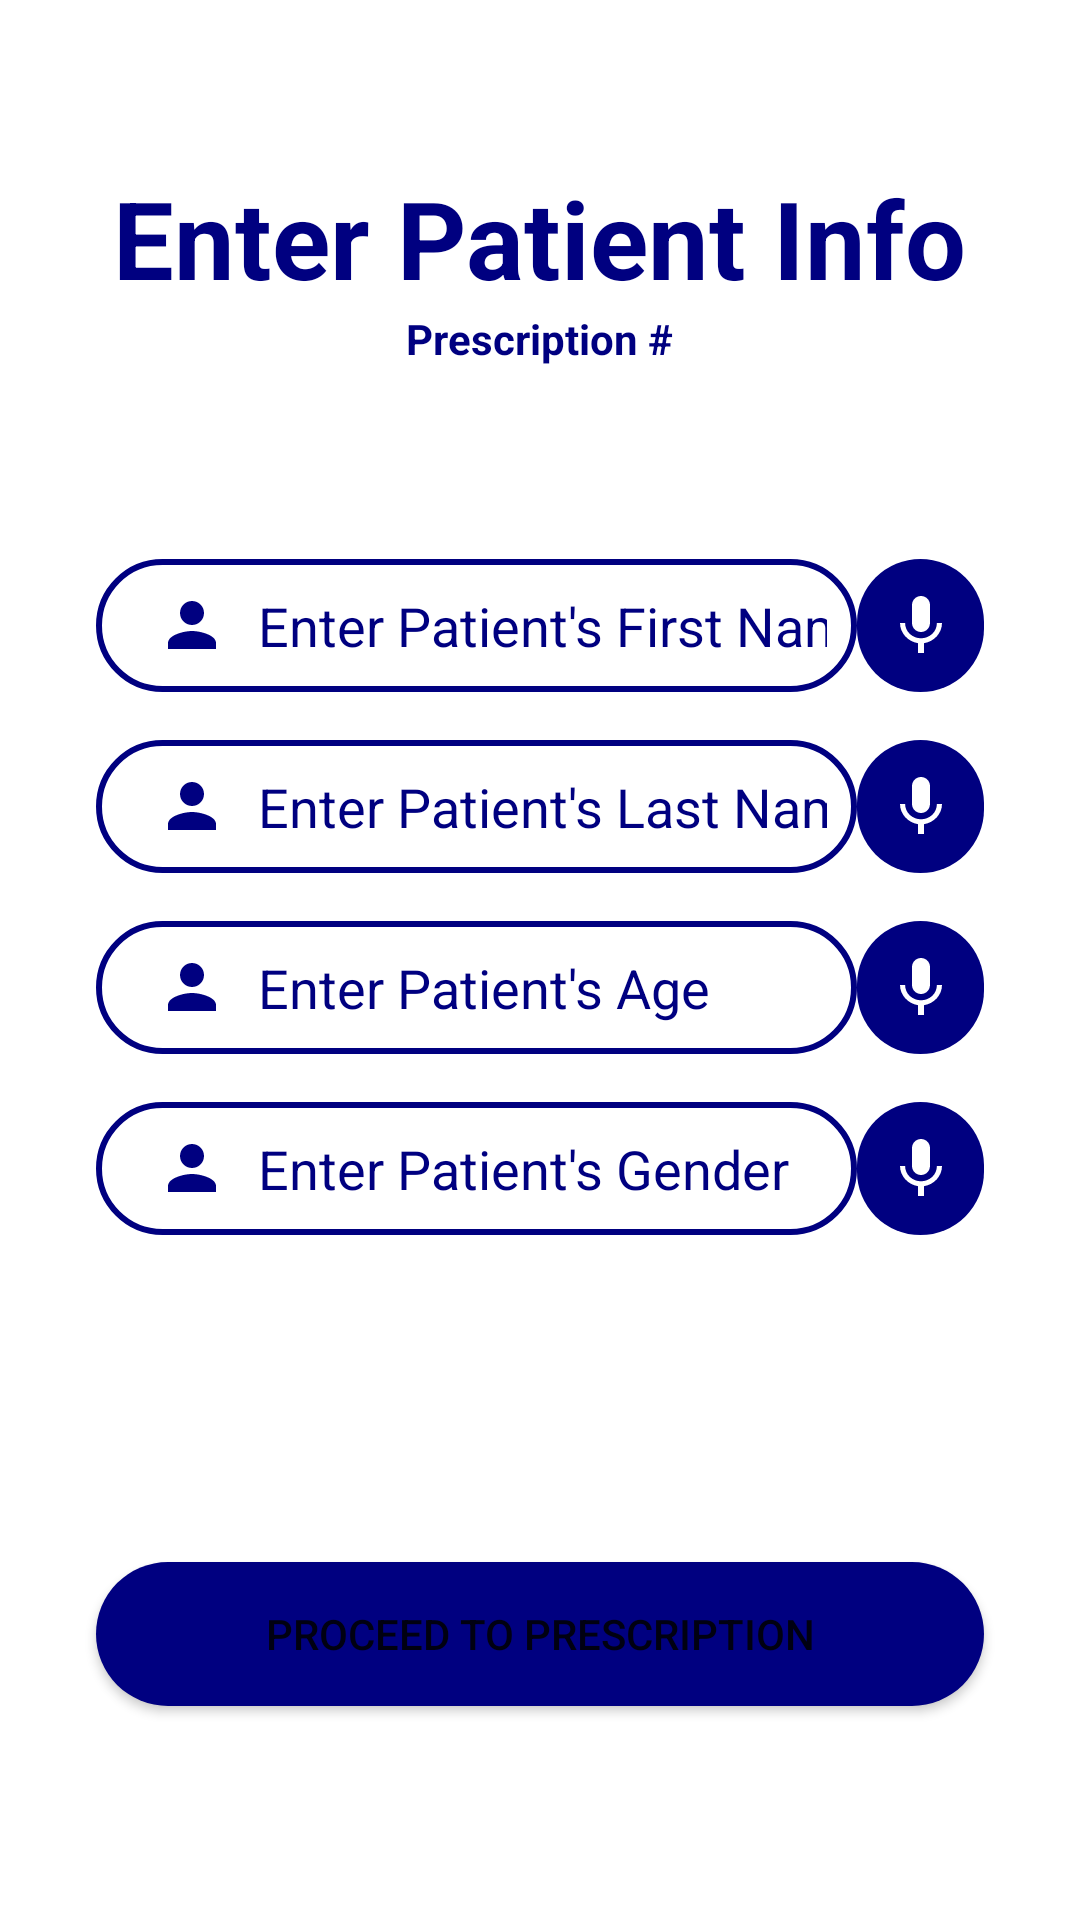

Locate icon controls on the screen. Image size 1080 × 1920, boxes as (x1,y1,x2,y2).
mic: (857,559,984,692), (857,740,984,873), (857,921,984,1054), (857,1102,984,1235)
